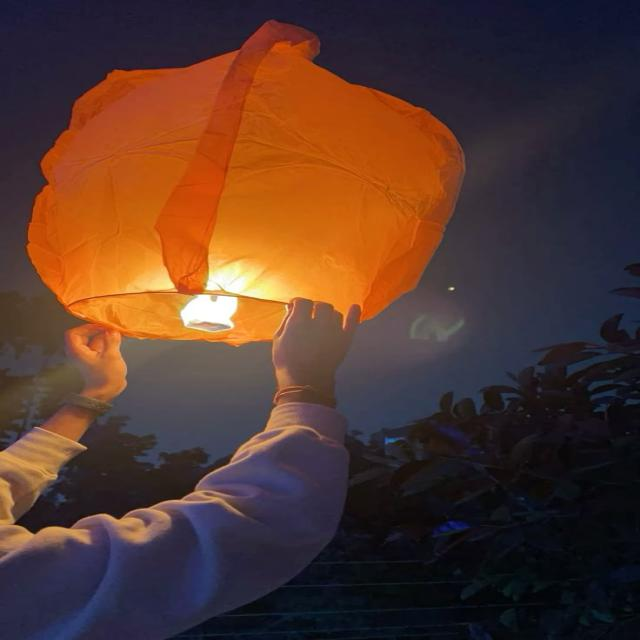fire: (180, 267, 257, 333)
